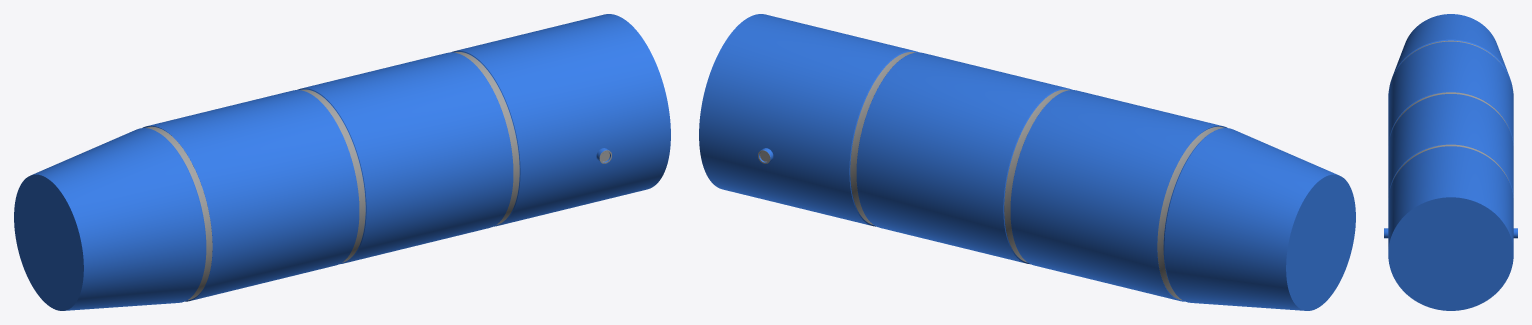
Rendered from Castor_Behälter_blau.fbx.
The picture shows the model from 3 angles, left to right: view 1: azimuth 30°, elevation 25°; view 2: azimuth 150°, elevation 25°; view 3: azimuth 270°, elevation 25°; orthographic projection. The views are drawn at different scales.
Parts seen in each view (by area): view 1: Cylinder.001; view 2: Cylinder.001; view 3: Cylinder.001.
Part boxes in pixels (left/top/right/bottom): Cylinder.001: left=14, top=14, right=670, bottom=310; Cylinder.001: left=699, top=14, right=1355, bottom=310; Cylinder.001: left=1384, top=14, right=1517, bottom=310.
Size of the model in its own units: 555 by 150 by 160.
